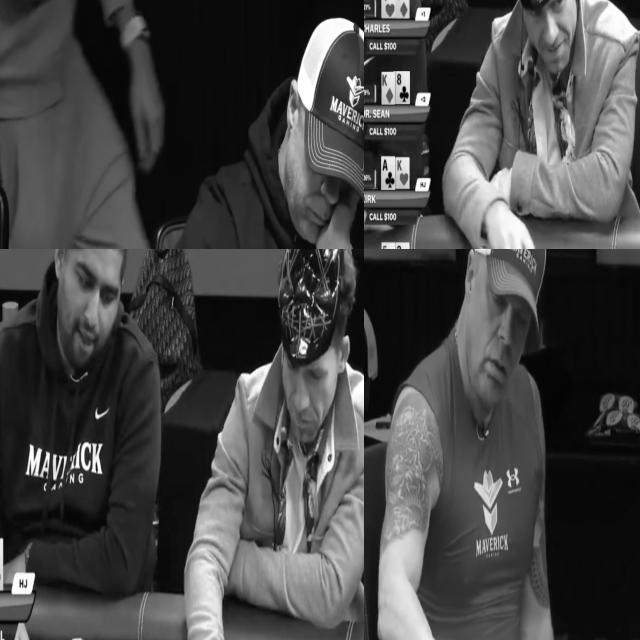2C: (395, 242, 410, 249)
4D: (395, 0, 408, 18)
4H: (381, 0, 395, 17)
5D: (381, 242, 395, 249)
8C: (394, 71, 410, 104)
AC: (381, 156, 395, 190)
KD: (381, 72, 395, 105)
KH: (395, 158, 411, 190)
